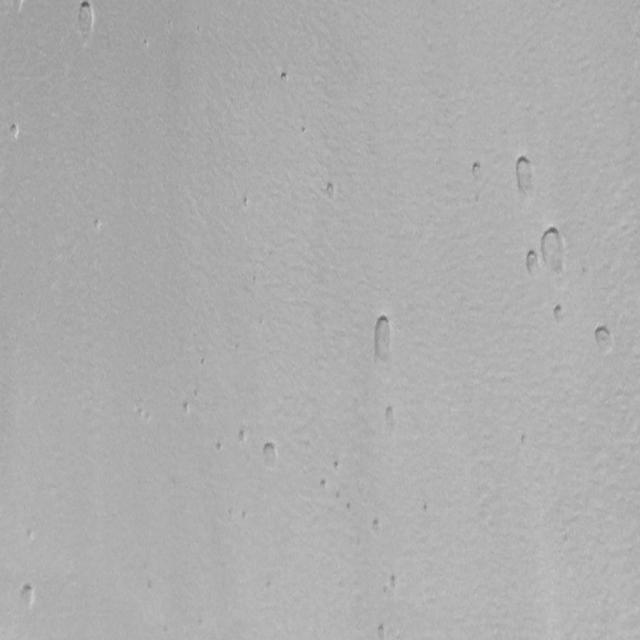pin holes: (538, 225, 570, 283), (372, 311, 401, 364), (513, 151, 539, 196), (71, 0, 95, 38), (258, 440, 280, 471), (594, 322, 616, 351), (18, 582, 40, 610), (523, 250, 542, 278), (382, 403, 401, 428), (468, 160, 487, 183), (551, 300, 568, 324), (386, 571, 402, 594), (7, 122, 23, 143), (23, 526, 37, 546), (277, 68, 292, 86), (370, 517, 384, 536), (235, 428, 249, 446), (325, 180, 335, 204), (90, 218, 104, 234), (181, 399, 194, 416), (376, 622, 388, 640), (214, 440, 228, 455), (316, 477, 329, 493), (240, 194, 252, 211), (239, 507, 251, 523), (520, 428, 528, 450), (332, 459, 344, 473), (419, 502, 431, 516), (299, 122, 309, 138), (333, 486, 342, 502), (344, 502, 354, 516), (198, 357, 208, 371), (140, 39, 150, 53)
